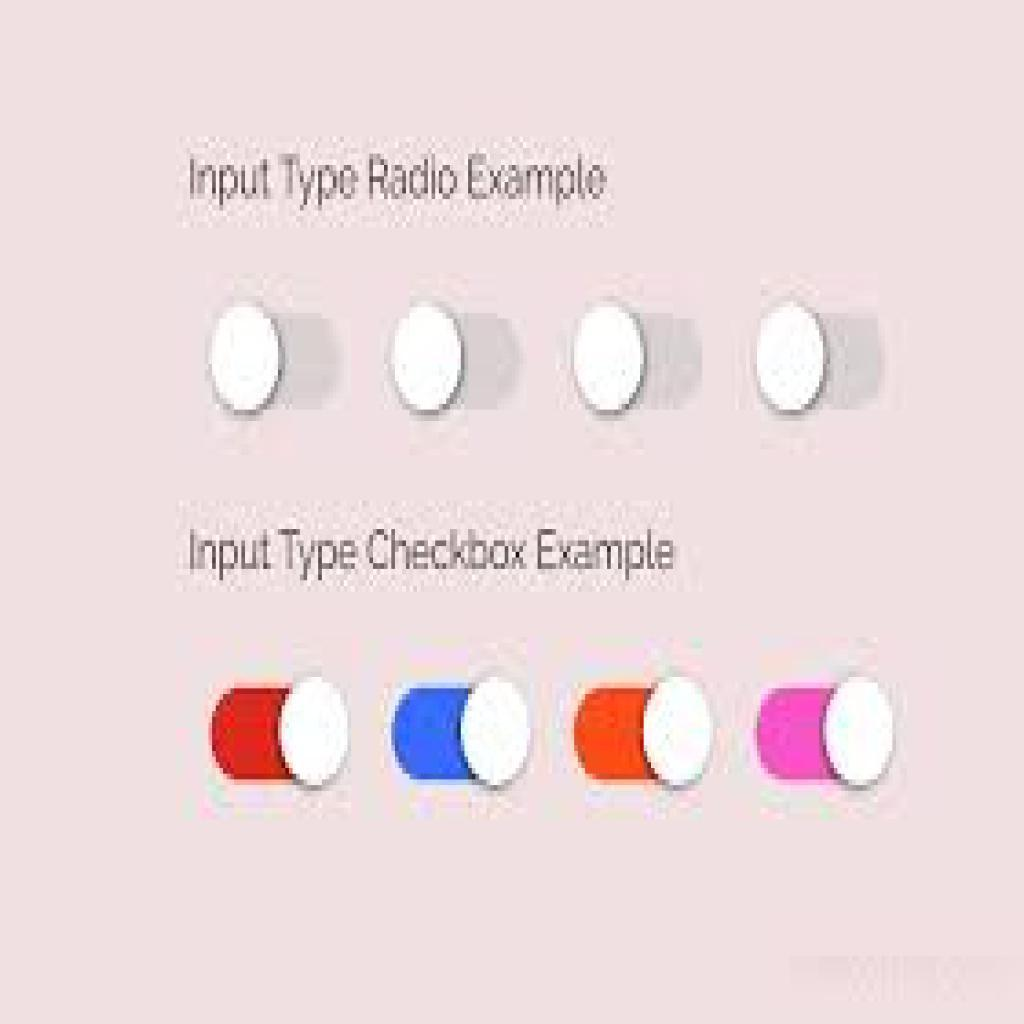switch: (746, 287, 897, 437), (199, 287, 348, 433), (380, 287, 524, 435), (569, 293, 709, 426), (390, 668, 534, 797), (204, 677, 358, 794), (569, 671, 716, 792), (754, 674, 902, 794)
